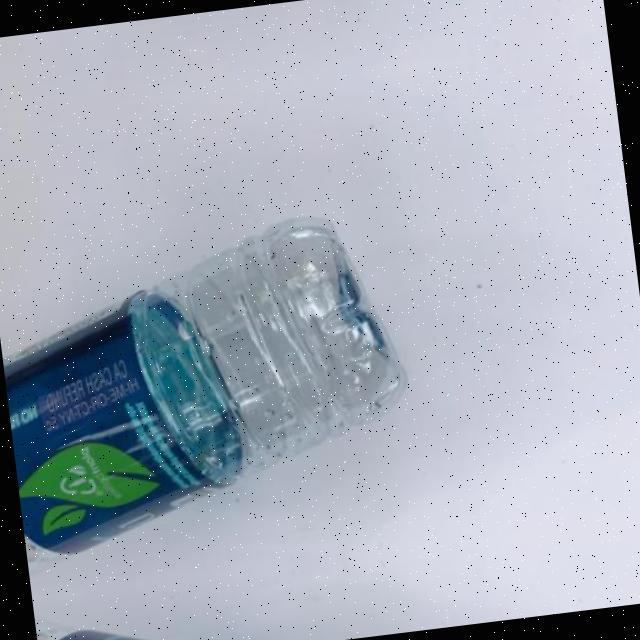Plastic: (0, 182, 453, 592), (33, 548, 464, 640)
